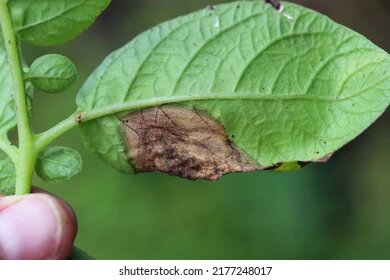potato_leaf: (78, 1, 390, 181), (28, 52, 78, 91)
